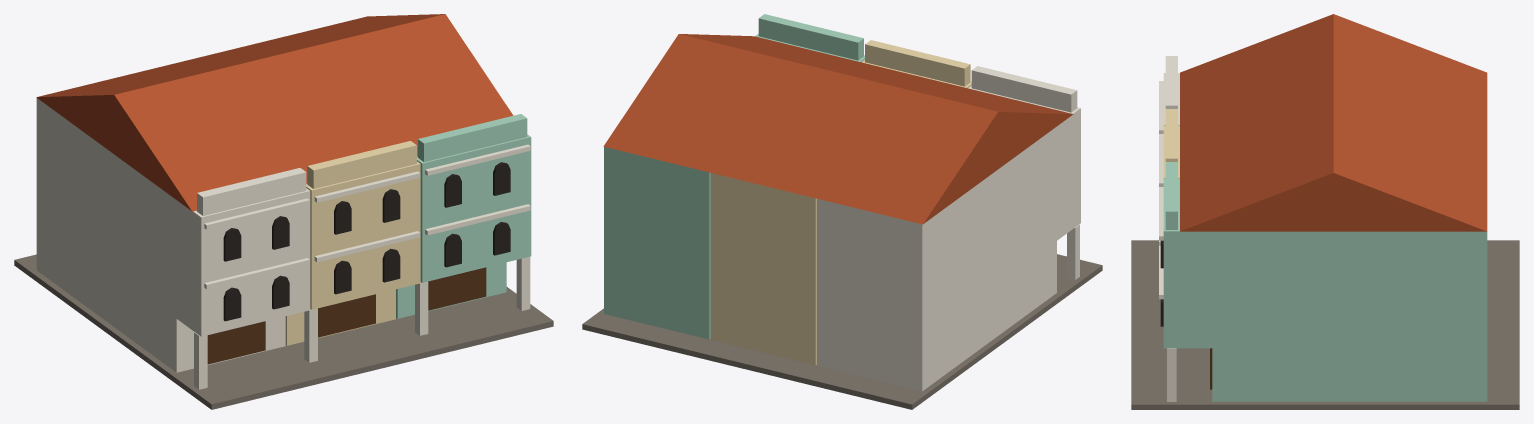
Rendered from zone_C_d3_e2.glb.
The picture shows the model from 3 angles, left to right: view 1: azimuth 30°, elevation 25°; view 2: azimuth 150°, elevation 25°; view 3: azimuth 270°, elevation 25°; orthographic projection. The views are drawn at different scales.
Visible parts, largest first — view 1: zone_C_d3_e2; view 2: zone_C_d3_e2; view 3: zone_C_d3_e2.
Part boxes in pixels (x1=…): zone_C_d3_e2: x1=14, y1=14, x2=553, y2=409; zone_C_d3_e2: x1=582, y1=14, x2=1102, y2=409; zone_C_d3_e2: x1=1131, y1=14, x2=1519, y2=409.
Size of the model in its own units: 0.96 by 0.64 by 0.96.
